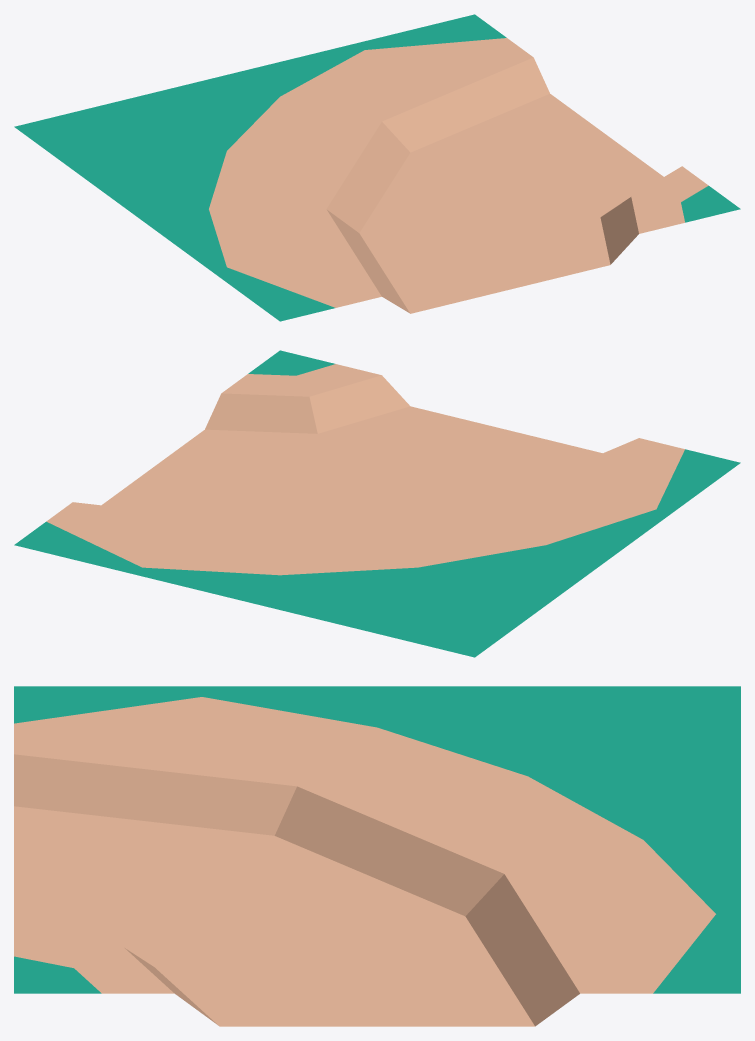
The model's file is ground_pathBendBank.glb.
The picture shows the model from 3 angles, top to bottom: view 1: azimuth 30°, elevation 25°; view 2: azimuth 150°, elevation 25°; view 3: azimuth 270°, elevation 25°; orthographic projection. The views are drawn at different scales.
Visible parts, largest first — view 1: ground_pathBendBank; view 2: ground_pathBendBank; view 3: ground_pathBendBank.
Boxes of the visible parts, x1,y1,x2,y2 form: ground_pathBendBank: [14, 14, 740, 321]; ground_pathBendBank: [14, 350, 740, 657]; ground_pathBendBank: [14, 686, 740, 1026].
Bounding box in the file's own units: 1 × 0.05 × 1.
